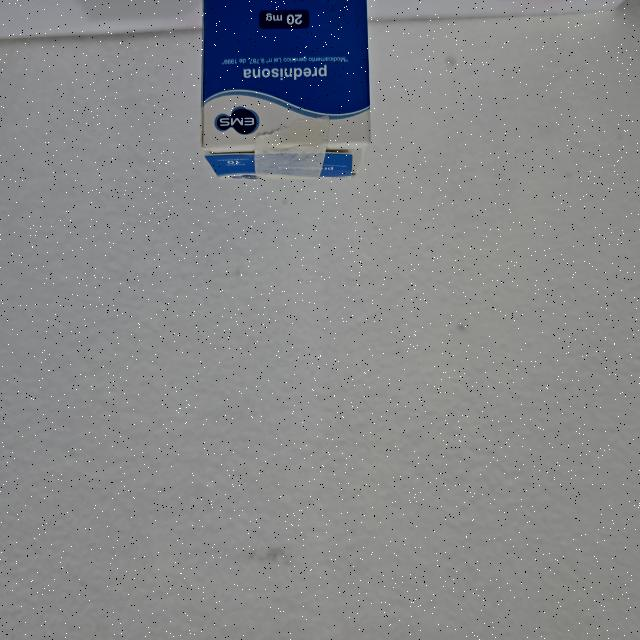prednisona: (197, 0, 374, 182)
